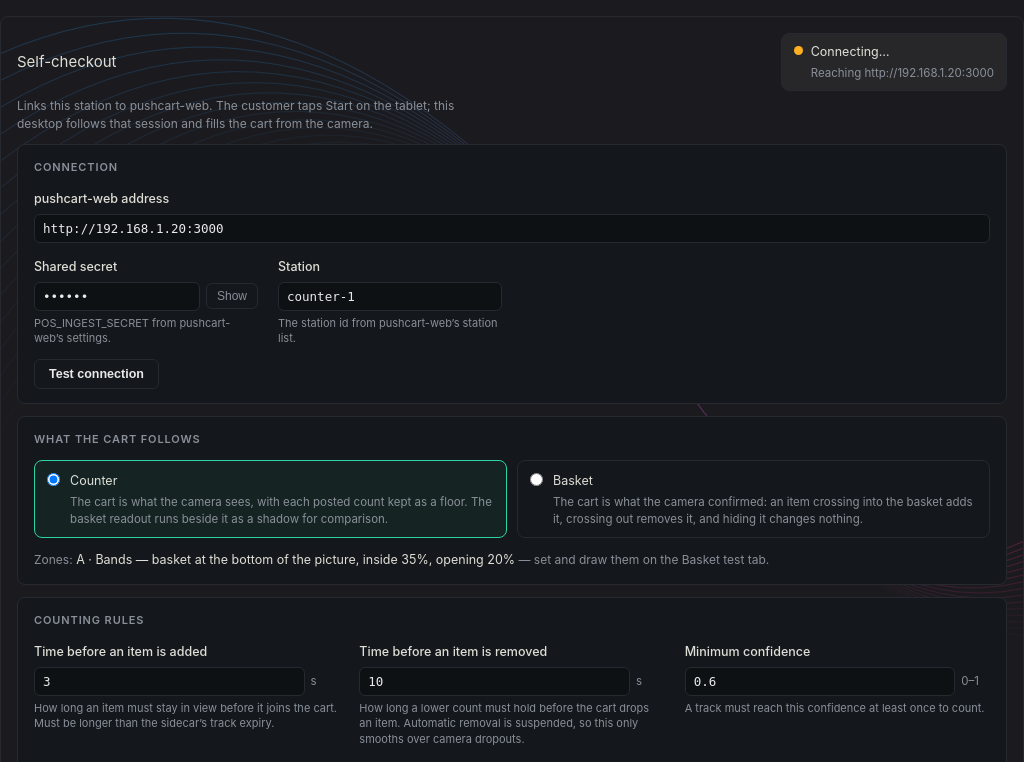
it: PosAdminSection › saves the edited config, including numbers and the cart mode
Expected: the field with test id "pos-base-url" holds "http://192.168.1.20:3000", [34,214,990,243]
Replace the text in the field with test id "pos-station-id" with "counter-2" at (390, 296), box [278,282,502,311]
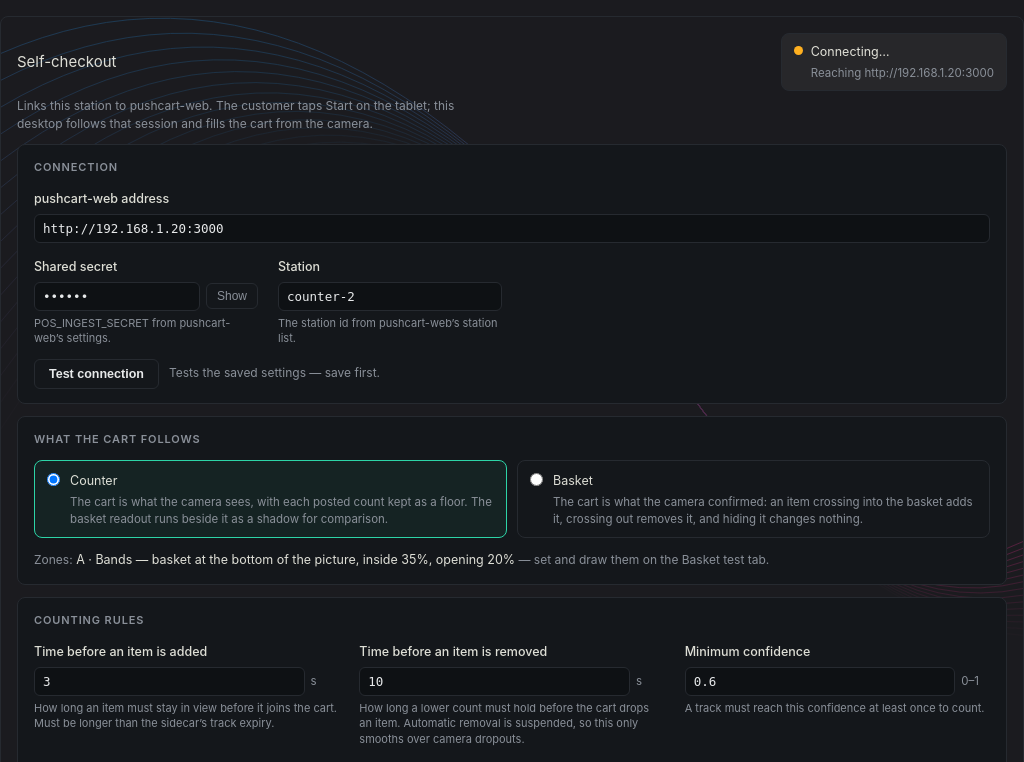
Replace the text in the number field with test id "pos-commitDwellS" with "4" at (169, 682), box [34,667,305,696]
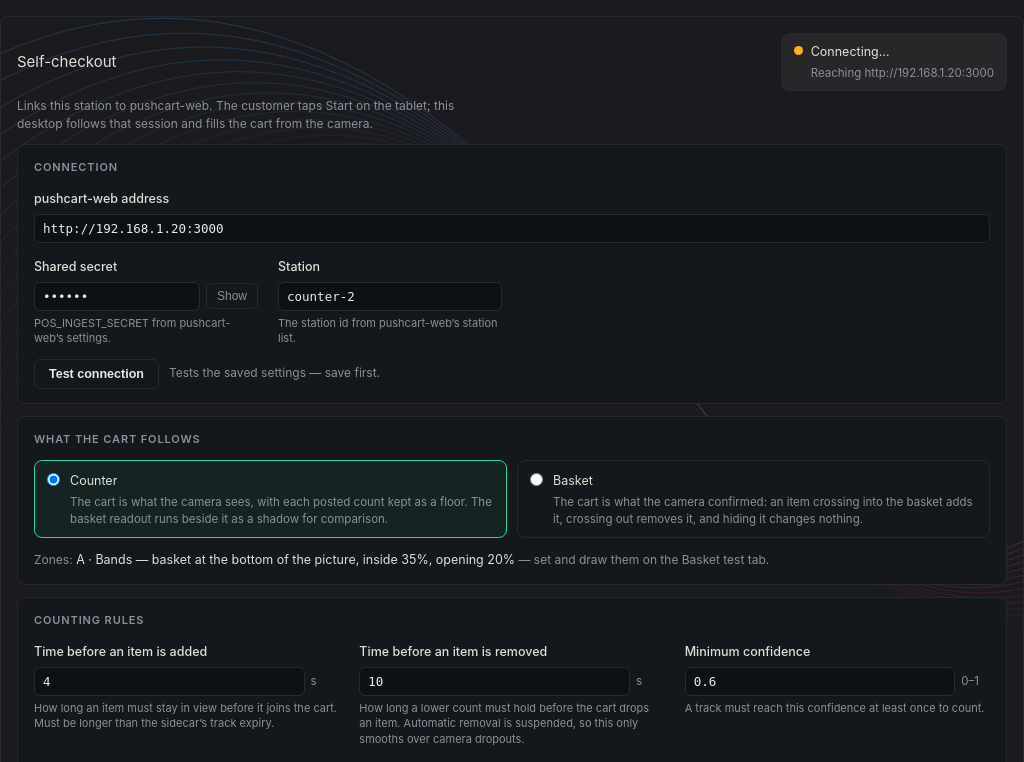
Click the 2nd radio button at (536, 480), box [530,473,543,486]
(page scrolled)
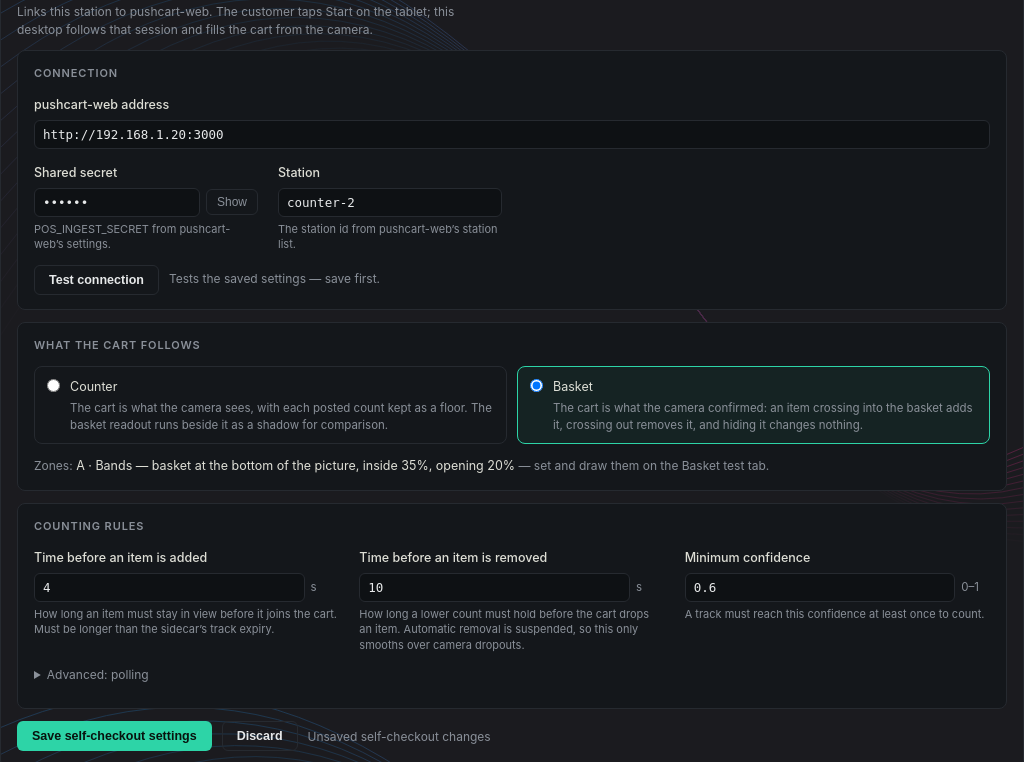
Click the button "Save self-checkout settings" at (114, 736), box [17,721,212,751]
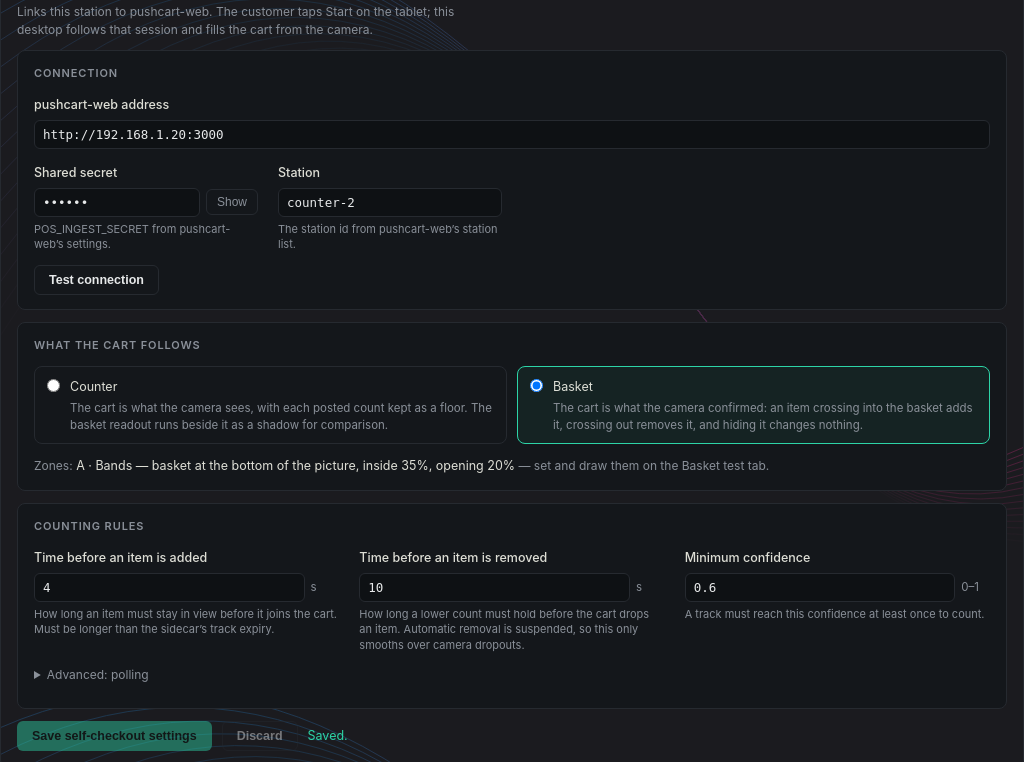
Expected: the message with test id "pos-save-message" reads "Saved.", [308,728,348,743]
